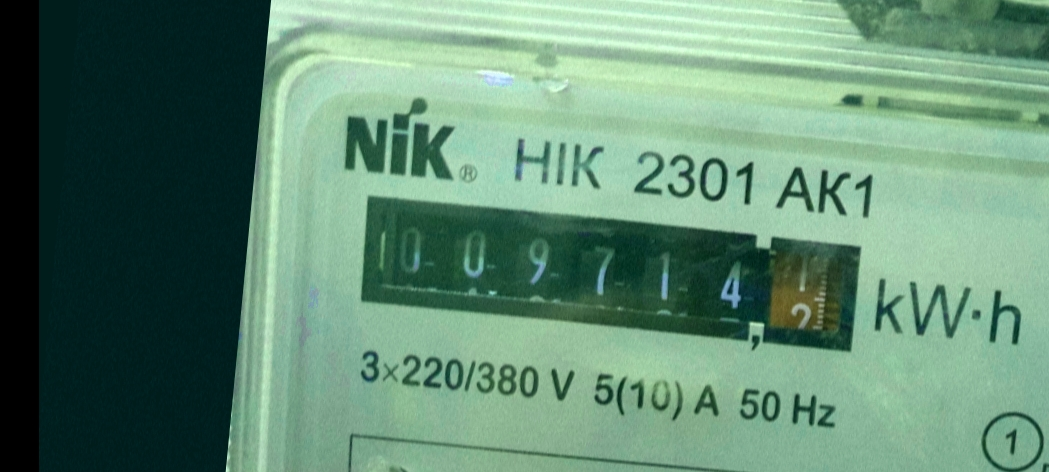0: (394, 222, 428, 278), (459, 225, 490, 281)
1: (652, 247, 679, 304), (794, 251, 813, 295)
2: (788, 299, 814, 331)
4: (716, 257, 749, 313)
7: (587, 243, 618, 299)
9: (521, 234, 554, 289)
screen: (341, 179, 881, 372)
